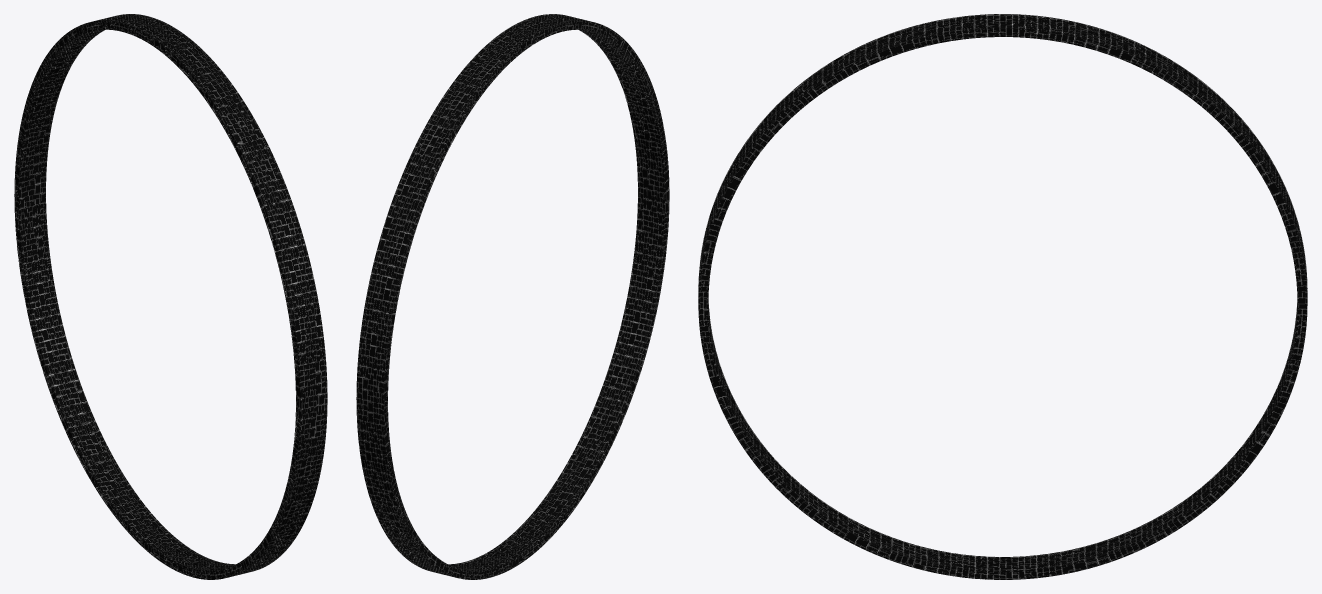
File: grid-city.fbx
3 renders of one model, left to right at view 1: azimuth 30°, elevation 25°; view 2: azimuth 150°, elevation 25°; view 3: azimuth 270°, elevation 25°, orthographic. The views are drawn at different scales.
Visible parts, largest first — view 1: Tube001; view 2: Tube001; view 3: Tube001.
Boxes of the visible parts, x1,y1,x2,y2 form: Tube001: [14, 14, 327, 579]; Tube001: [356, 14, 669, 579]; Tube001: [698, 14, 1307, 579].
Bounding box in the file's own units: 56 × 1034 × 1034.
1 material, 1 textured.
